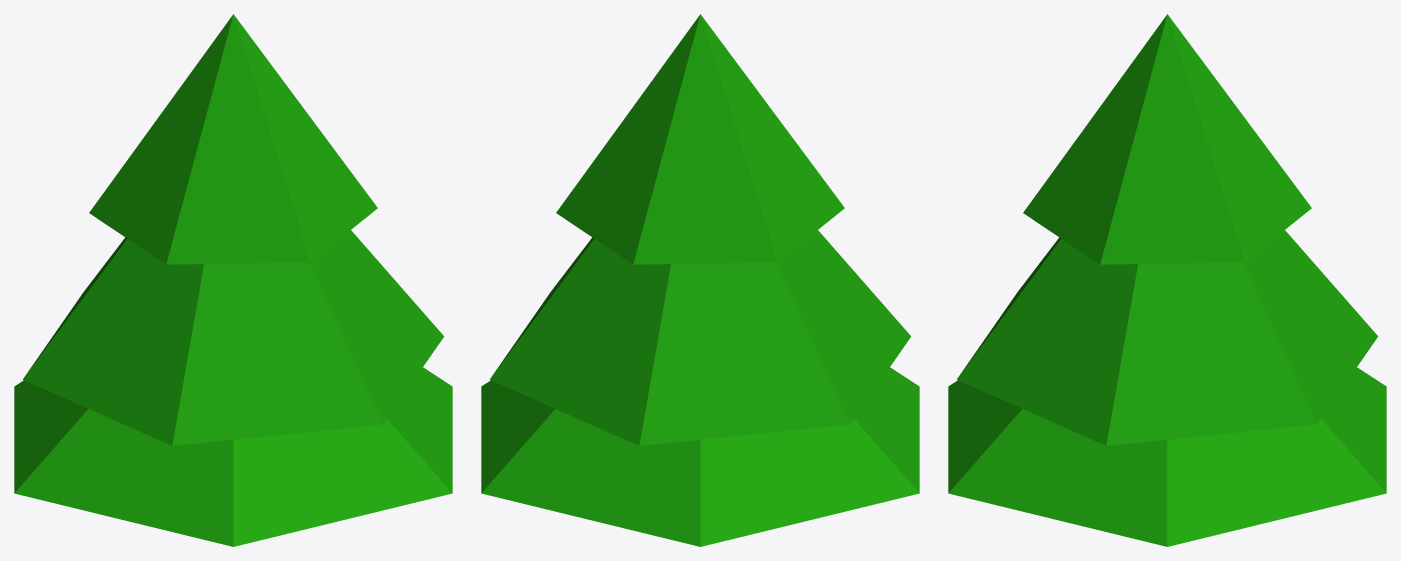
Rendered from Tree.fbx.
3 renders of one model, left to right at view 1: azimuth 30°, elevation 25°; view 2: azimuth 150°, elevation 25°; view 3: azimuth 270°, elevation 25°, orthographic.
Parts seen in each view (by area): view 1: Tree_Green_Mid, Tree_Green_Bottom, Tree_Green_Top; view 2: Tree_Green_Mid, Tree_Green_Bottom, Tree_Green_Top; view 3: Tree_Green_Mid, Tree_Green_Bottom, Tree_Green_Top.
Part boxes in pixels (x1,y1,x2,y2): Tree_Green_Mid: [23, 230, 443, 445]; Tree_Green_Bottom: [14, 367, 452, 546]; Tree_Green_Top: [89, 14, 377, 264]; Tree_Green_Mid: [490, 230, 910, 445]; Tree_Green_Bottom: [481, 367, 919, 546]; Tree_Green_Top: [556, 14, 844, 264]; Tree_Green_Mid: [957, 230, 1377, 445]; Tree_Green_Bottom: [948, 367, 1386, 546]; Tree_Green_Top: [1023, 14, 1311, 264].
Bounding box in the file's own units: 140 × 150 × 121.
